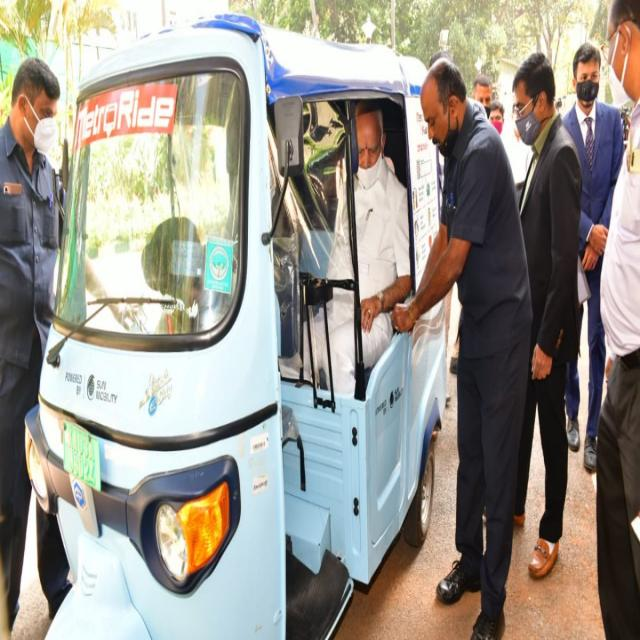autorickshaw: (20, 16, 446, 638)
